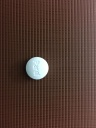Parol: (24, 56, 50, 81)
